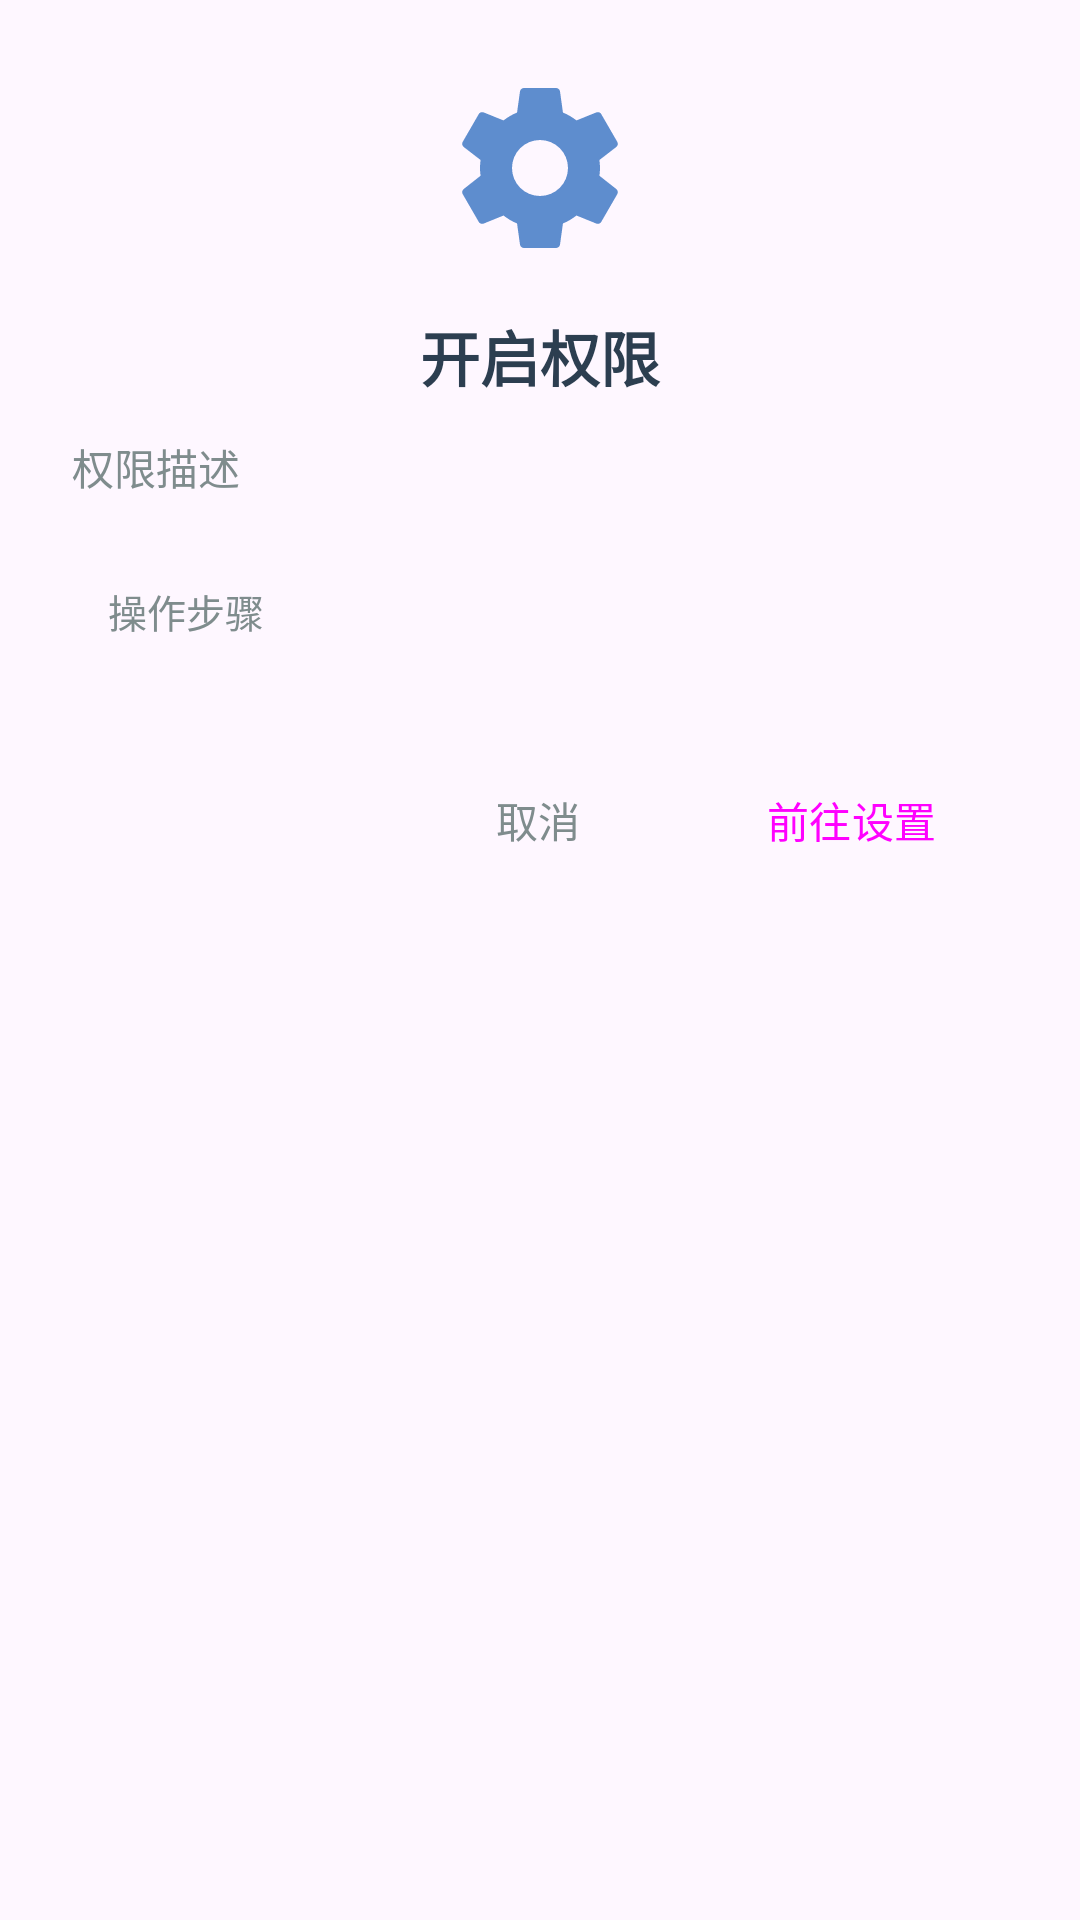

Icon click points for this 1080w x 1920h phone screenshot, format point (x, y):
settings: point (540, 168)
